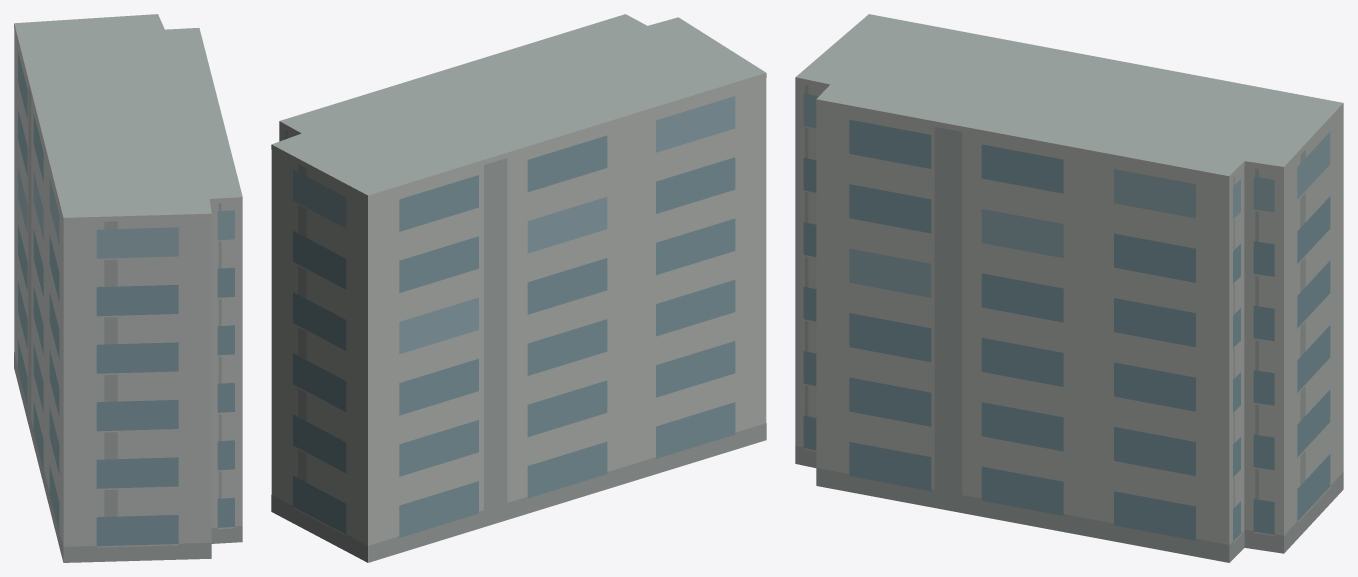
File: survey-upis-32562299.glb
The picture shows the model from 3 angles, left to right: view 1: azimuth 30°, elevation 25°; view 2: azimuth 150°, elevation 25°; view 3: azimuth 270°, elevation 25°; orthographic projection. The views are drawn at different scales.
Visible parts, largest first — view 1: survey-upis-32562299.tmp; view 2: survey-upis-32562299.tmp; view 3: survey-upis-32562299.tmp.
Part boxes in pixels (x1=…): survey-upis-32562299.tmp: x1=14, y1=14, x2=242, y2=562; survey-upis-32562299.tmp: x1=271, y1=14, x2=766, y2=562; survey-upis-32562299.tmp: x1=795, y1=14, x2=1343, y2=562.
Size of the model in its own units: 15.31 by 17 by 21.85.
